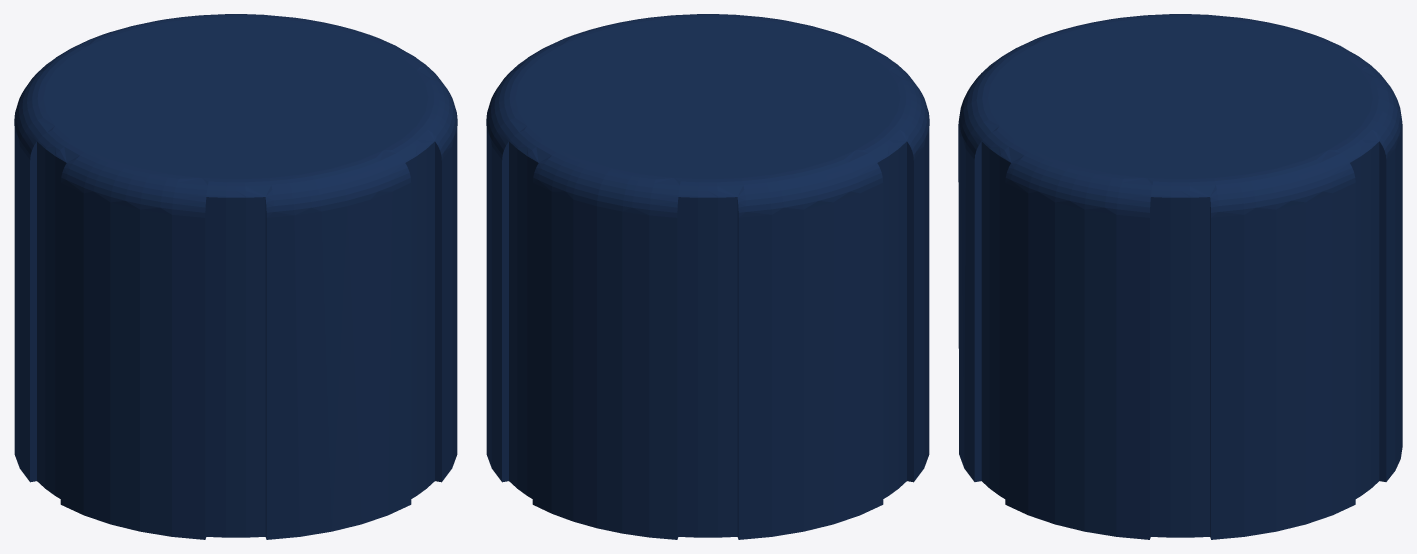
File: SRF0010.glb
3 views of the same model, side by side, from view 1: azimuth 30°, elevation 25°; view 2: azimuth 150°, elevation 25°; view 3: azimuth 270°, elevation 25° (orthographic).
Parts seen in each view (by area): view 1: 10093986; view 2: 10093986; view 3: 10093986.
Boxes of the visible parts, <box> form: 10093986: <box>14,14,457,539</box>; 10093986: <box>486,14,929,539</box>; 10093986: <box>958,14,1402,539</box>.
Bounding box in the file's own units: 0.9904 × 0.8667 × 1.
